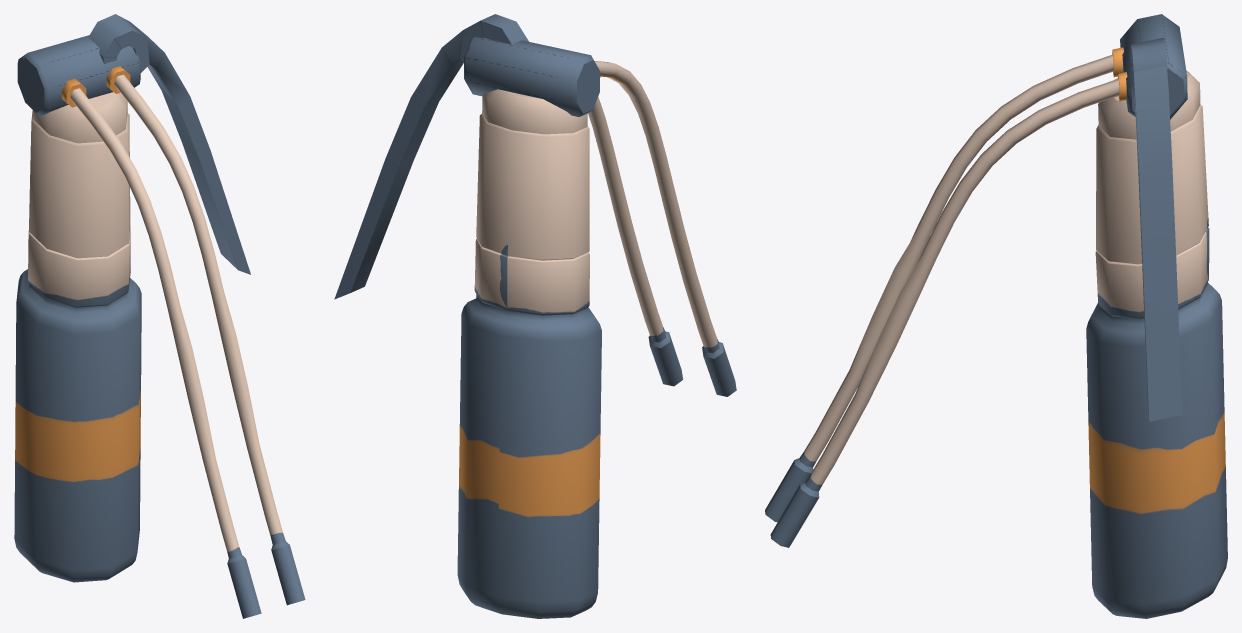
The model's file is filter air.fbx.
3 renders of one model, left to right at view 1: azimuth 30°, elevation 25°; view 2: azimuth 150°, elevation 25°; view 3: azimuth 270°, elevation 25°, orthographic. The views are drawn at different scales.
Visible parts, largest first — view 1: BezierCurve.007; view 2: BezierCurve.007; view 3: BezierCurve.007.
Part boxes in pixels (bbox=[...]): BezierCurve.007: bbox=[14, 14, 305, 618]; BezierCurve.007: bbox=[334, 14, 736, 618]; BezierCurve.007: bbox=[765, 14, 1227, 618].
Bounding box in the file's own units: 267 × 609 × 441.
